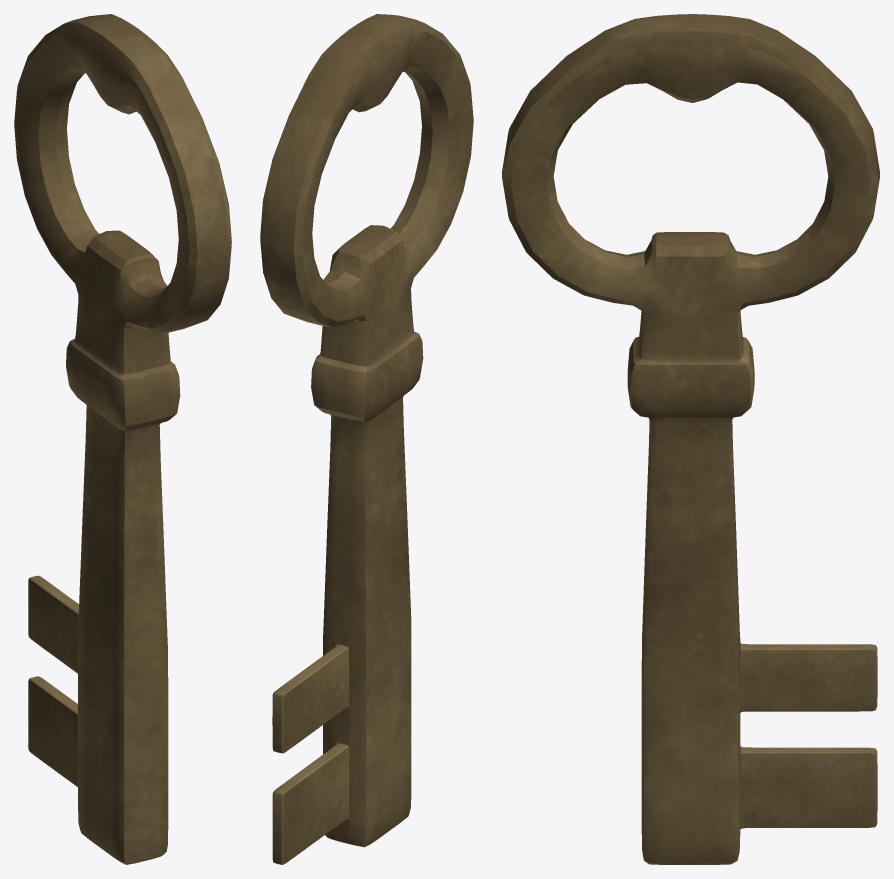
The model's file is SM_Key.fbx.
3 views of the same model, side by side, from view 1: azimuth 30°, elevation 25°; view 2: azimuth 150°, elevation 25°; view 3: azimuth 270°, elevation 25° (orthographic). The views are drawn at different scales.
Parts seen in each view (by area): view 1: Cube; view 2: Cube; view 3: Cube.
Boxes of the visible parts, x1,y1,x2,y2 form: Cube: [14, 14, 231, 864]; Cube: [260, 14, 473, 864]; Cube: [502, 14, 879, 864].
Bounding box in the file's own units: 11.66 × 148 × 60.76.
